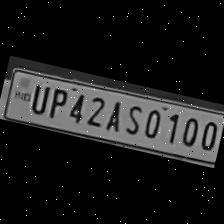0: (195, 116, 222, 153), (138, 104, 164, 140), (176, 112, 202, 148)
1: (158, 108, 182, 145)
2: (81, 90, 109, 130)
4: (63, 88, 89, 126)
A: (100, 96, 127, 134)
P: (44, 83, 70, 122)
S: (120, 100, 146, 138)
U: (25, 80, 51, 116)
